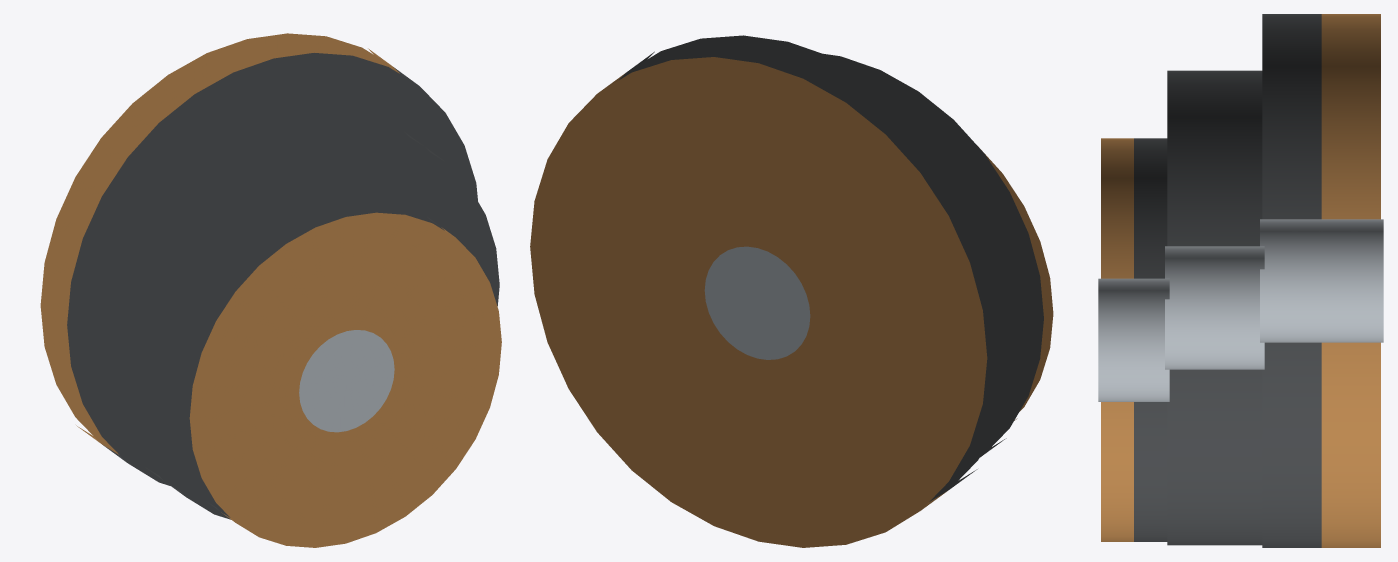
File: cairn-iron-plates.glb
3 renders of one model, left to right at view 1: azimuth 30°, elevation 25°; view 2: azimuth 150°, elevation 25°; view 3: azimuth 270°, elevation 25°, orthographic. The views are drawn at different scales.
Visible parts, largest first — view 1: Anvil bronze marking parts, Dark machined iron parts, Brushed steel hubs parts; view 2: Anvil bronze marking parts, Dark machined iron parts, Brushed steel hubs parts; view 3: Dark machined iron parts, Brushed steel hubs parts, Anvil bronze marking parts.
Part boxes in pixels (x1,y1,x2,y2): Anvil bronze marking parts: [40, 33, 501, 547]; Dark machined iron parts: [67, 53, 499, 519]; Brushed steel hubs parts: [299, 330, 394, 432]; Anvil bronze marking parts: [530, 57, 1053, 547]; Dark machined iron parts: [619, 35, 1043, 501]; Brushed steel hubs parts: [704, 246, 810, 359]; Dark machined iron parts: [1134, 14, 1321, 547]; Brushed steel hubs parts: [1098, 219, 1383, 401]; Anvil bronze marking parts: [1101, 14, 1380, 547].
Bounding box in the file's own units: 0.45 × 0.45 × 0.24.
